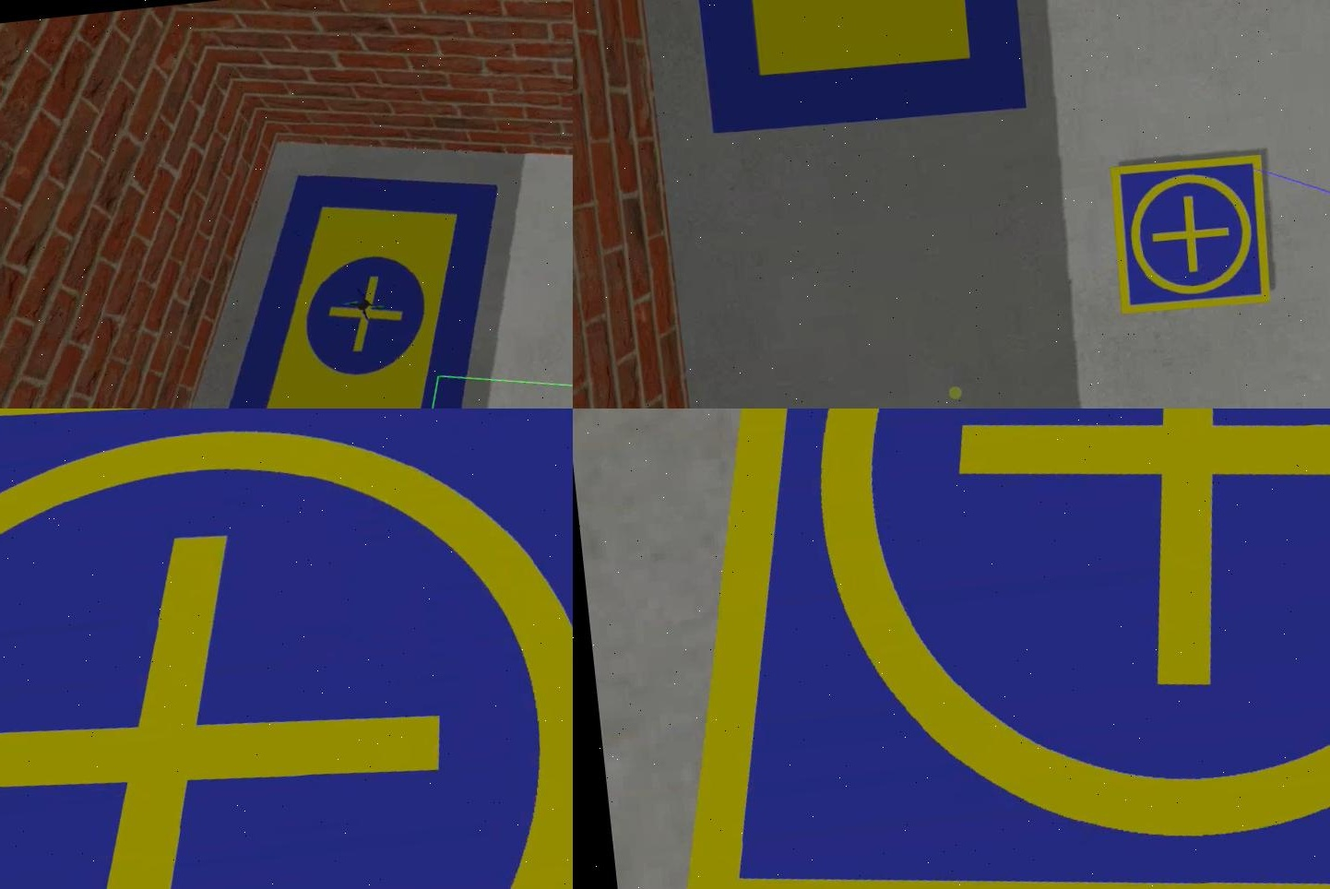large_base: (183, 155, 530, 409), (680, 1, 1033, 143)
small_base: (589, 409, 1328, 889), (0, 409, 572, 889), (1103, 153, 1277, 321)
